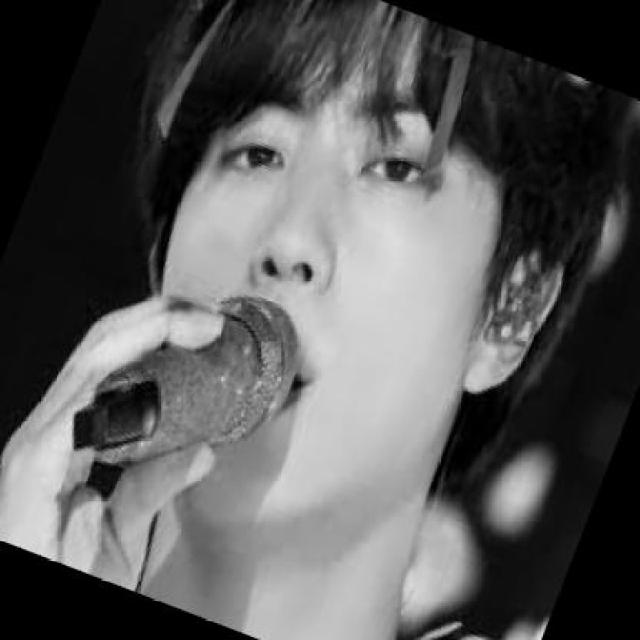earphone: (488, 269, 569, 356)
